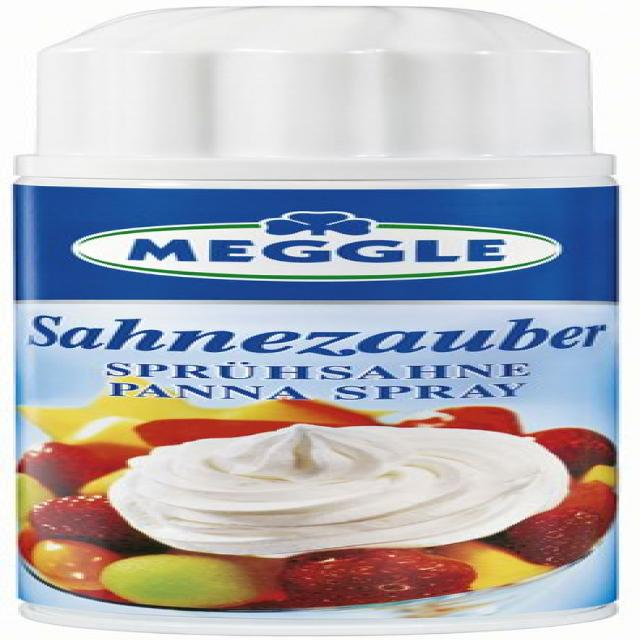Cream: (0, 6, 619, 637)
